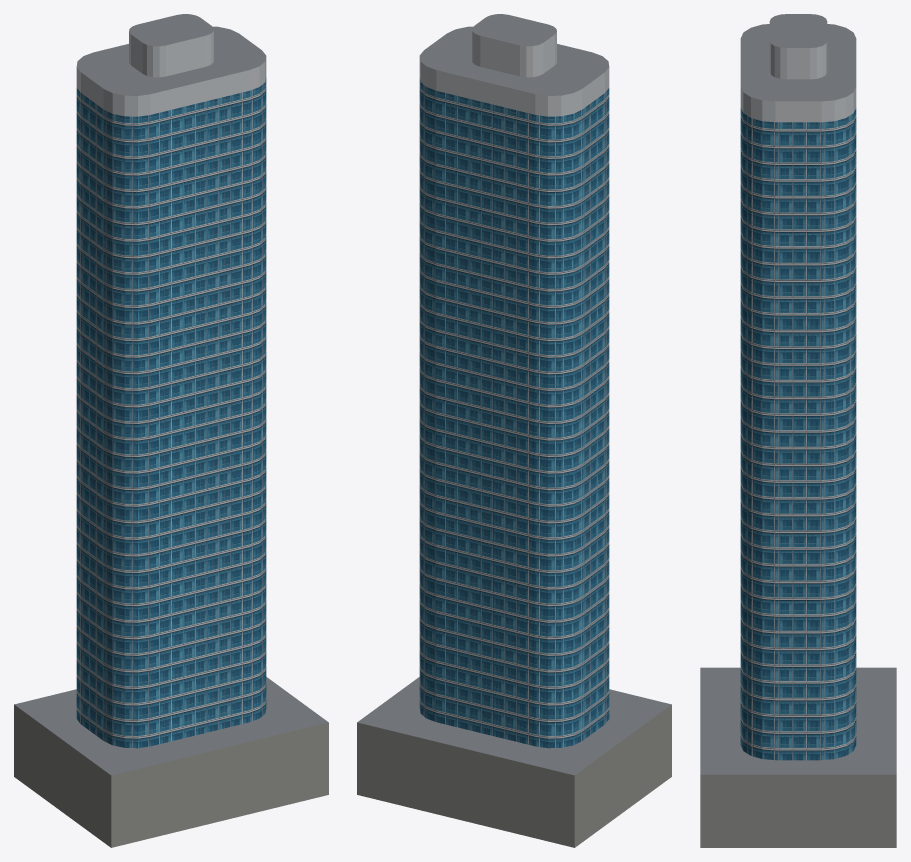
The model's file is gen_mid_glass_condo.glb.
3 renders of one model, left to right at view 1: azimuth 30°, elevation 25°; view 2: azimuth 150°, elevation 25°; view 3: azimuth 270°, elevation 25°, orthographic.
Visible parts, largest first — view 1: gen_mid_glass_condo; view 2: gen_mid_glass_condo; view 3: gen_mid_glass_condo.
Part boxes in pixels (x1,y1,x2,y2): gen_mid_glass_condo: (14, 14, 328, 847); gen_mid_glass_condo: (357, 14, 671, 847); gen_mid_glass_condo: (700, 14, 896, 847).
Bounding box in the file's own units: 44 × 146 × 34.
2 materials, 2 textured.
